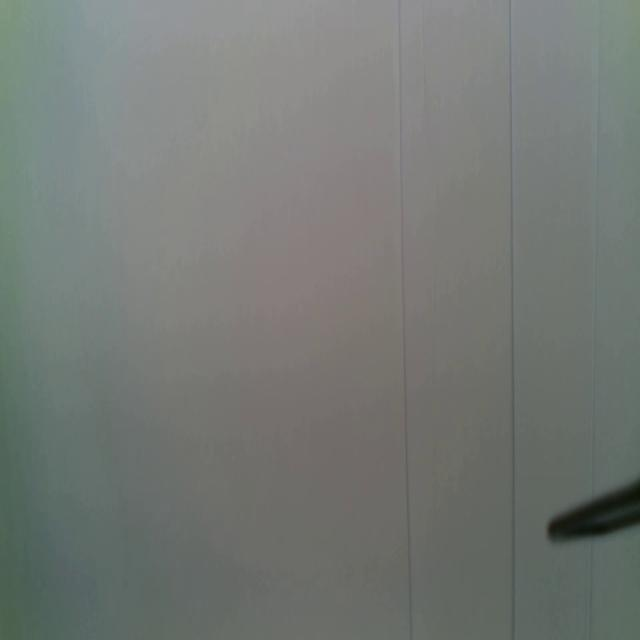crease: (396, 0, 414, 640), (588, 0, 604, 496), (507, 0, 518, 640), (586, 541, 596, 639), (419, 0, 426, 107)
